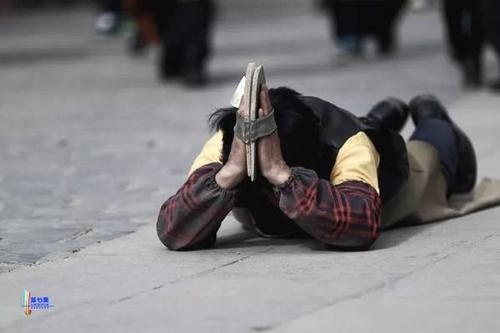falling: (161, 56, 485, 248)
